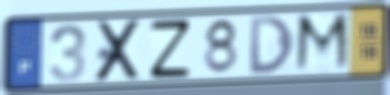3: (48, 23, 88, 83)
8: (202, 18, 239, 76)
D: (247, 14, 296, 77)
M: (292, 11, 353, 76)
X: (92, 17, 146, 85)
Z: (148, 16, 193, 80)
